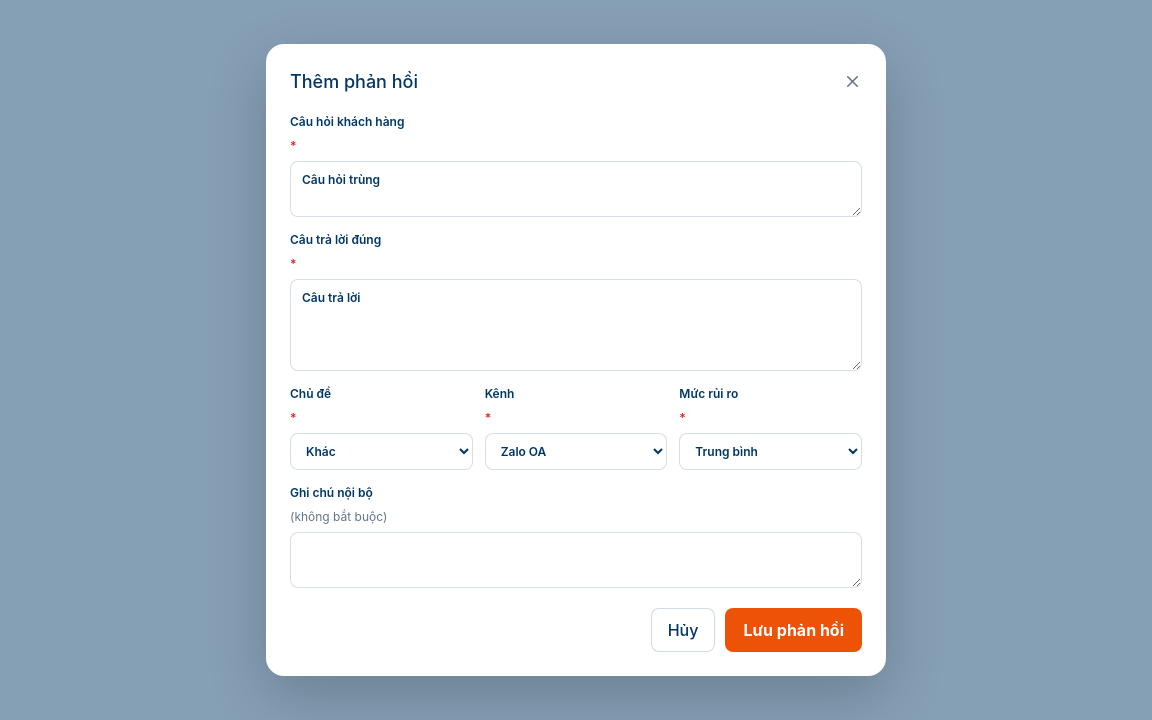
Test: FeedbackFormDialog › blocks an exact duplicate instead of creating another row
The width and height of the screenshot is (1152, 720).
Click the button "Lưu phản hồi" at (794, 630), box [726,608,862,652]
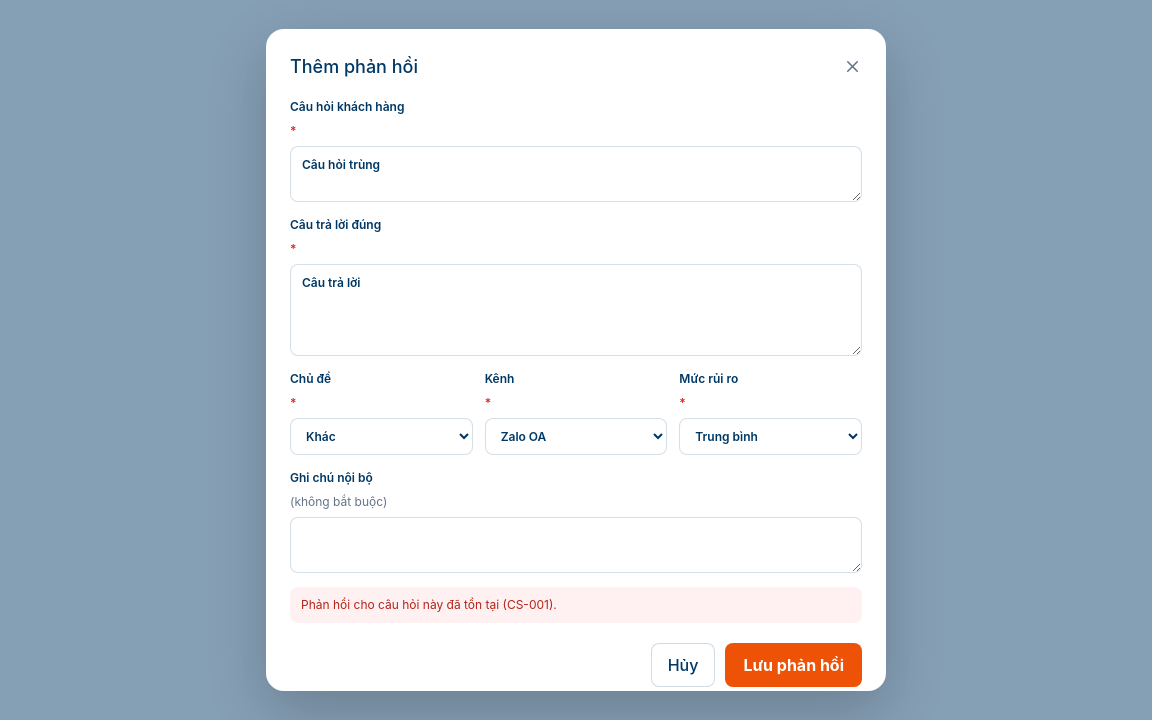
Now the message shows "đã tồn tại", box [301,597,557,612]
